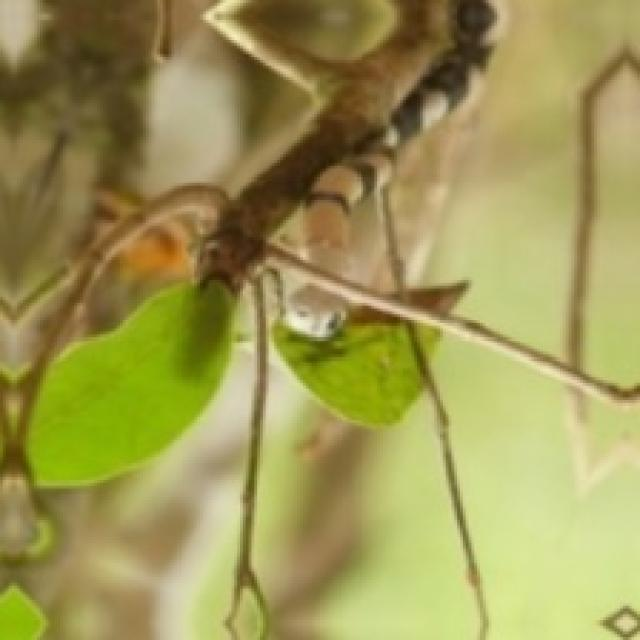king cobra: (0, 0, 491, 637), (306, 0, 494, 271)
